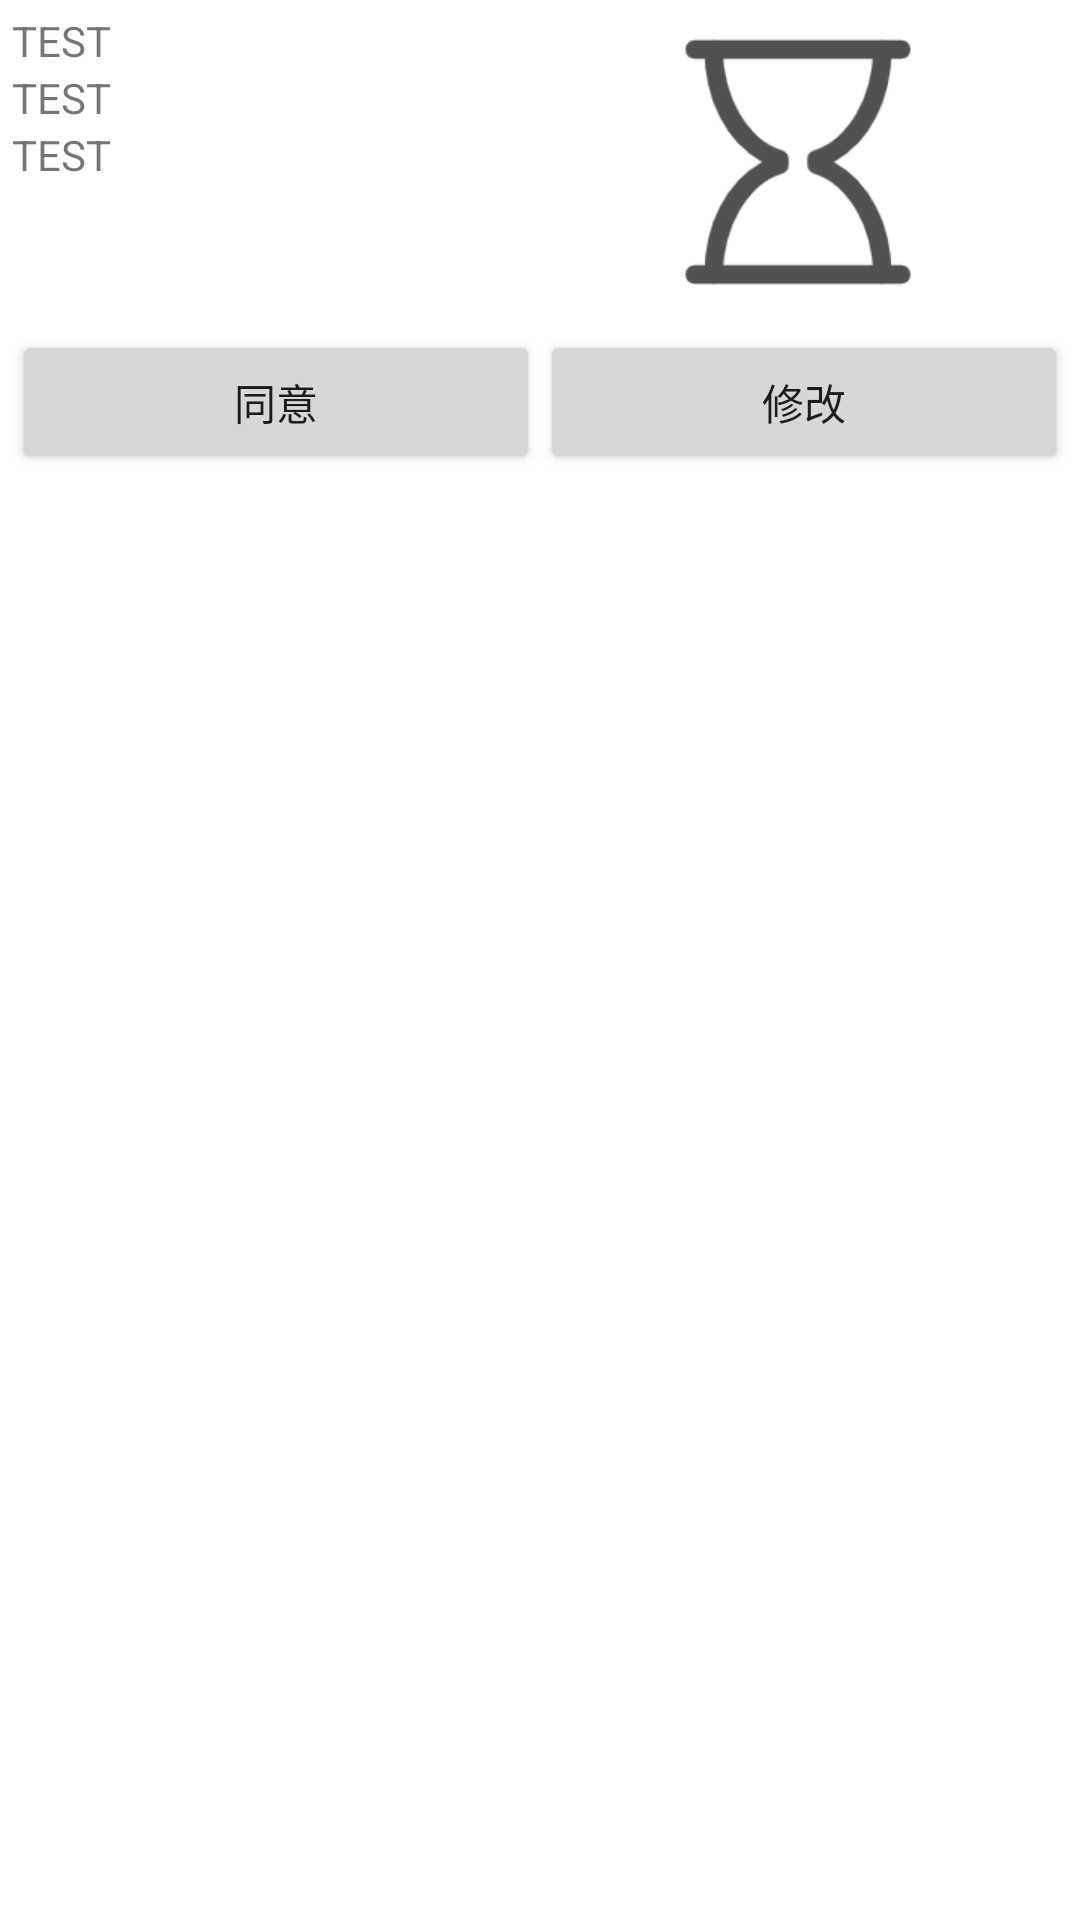

Icons on this 1080x1920 Android screen, each with its box as region(x1, y1, x2, y2):
wait: region(685, 39, 911, 285)
